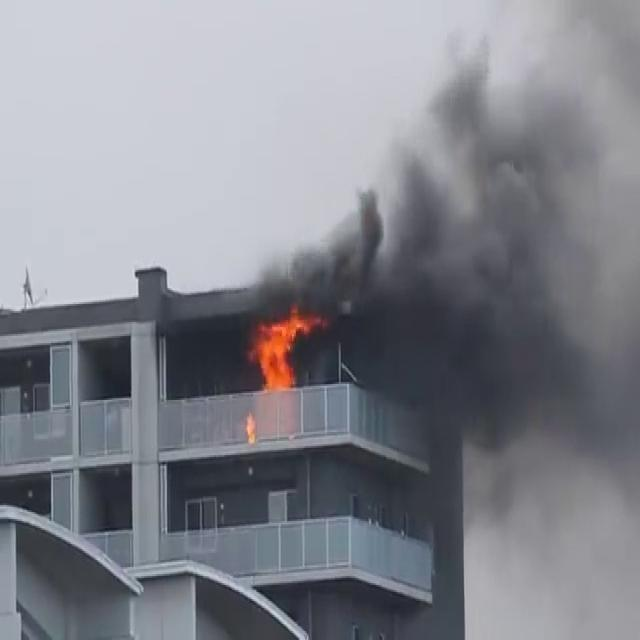Fire: (246, 307, 314, 392)
Smoke: (256, 5, 637, 471)
